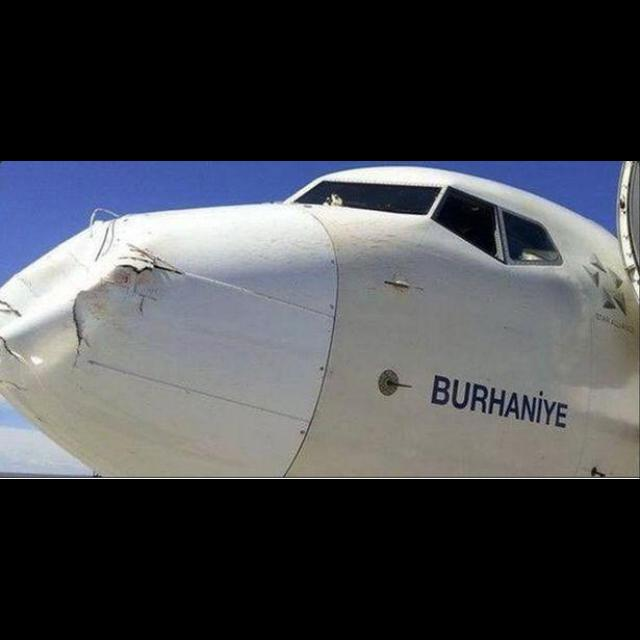dent: (0, 218, 132, 400)
